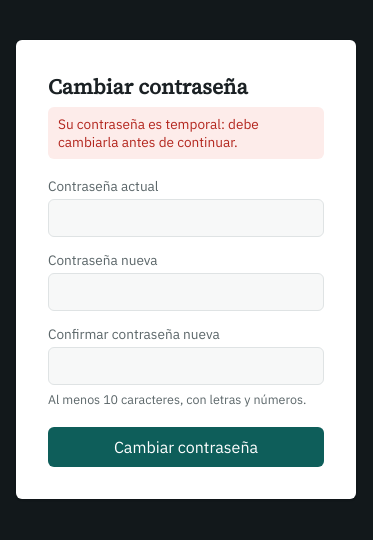
Test: CambiarPassword › muestra el error del servidor si la contraseña actual es incorrecta
Type "incorrecta" into the password field labelled "Contraseña actual" at (186, 218), box left=48, top=198, right=324, bottom=236
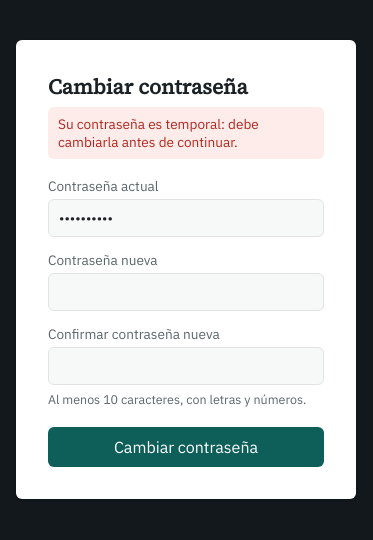
Type "NuevaClave99" into the password field labelled "Contraseña nueva" at (186, 292), box left=48, top=272, right=324, bottom=310
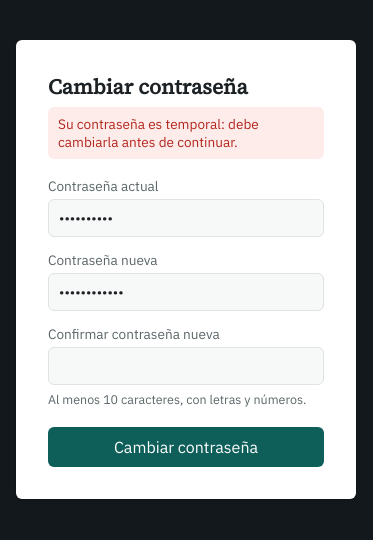
Type "NuevaClave99" into the password field labelled "Confirmar contraseña nueva" at (186, 366), box left=48, top=346, right=324, bottom=384
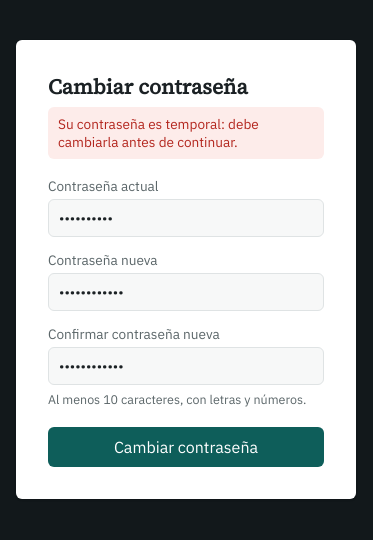
Click the button "Cambiar contraseña" at (186, 446), box left=48, top=426, right=324, bottom=466
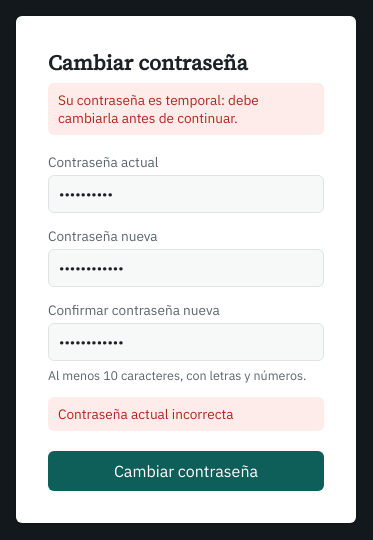
Check: the text "Contraseña actual incorrecta" is shown, box left=48, top=396, right=324, bottom=430
